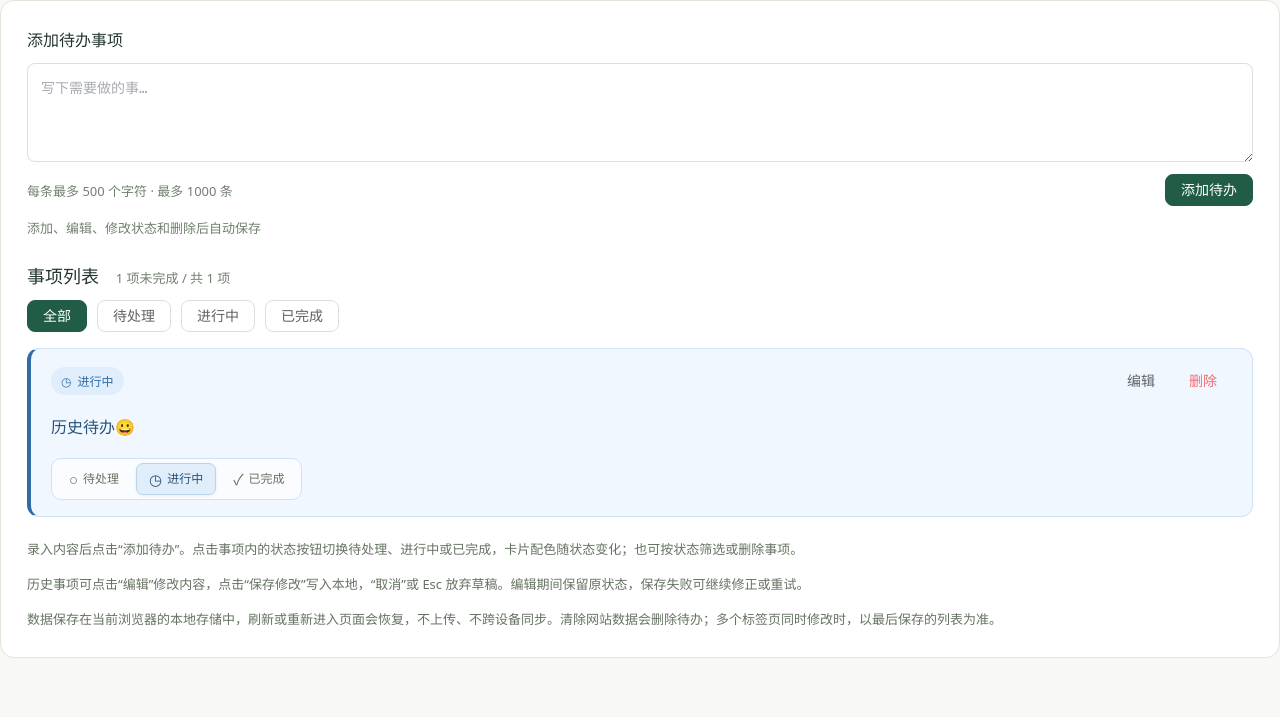
Test case: 历史内容可以编辑，取消不保存，保存后安全显示 HTML 文本并保持状态
The width and height of the screenshot is (1280, 717).
Click the button "编辑". click: [1141, 381]
box: [1112, 365, 1170, 397]
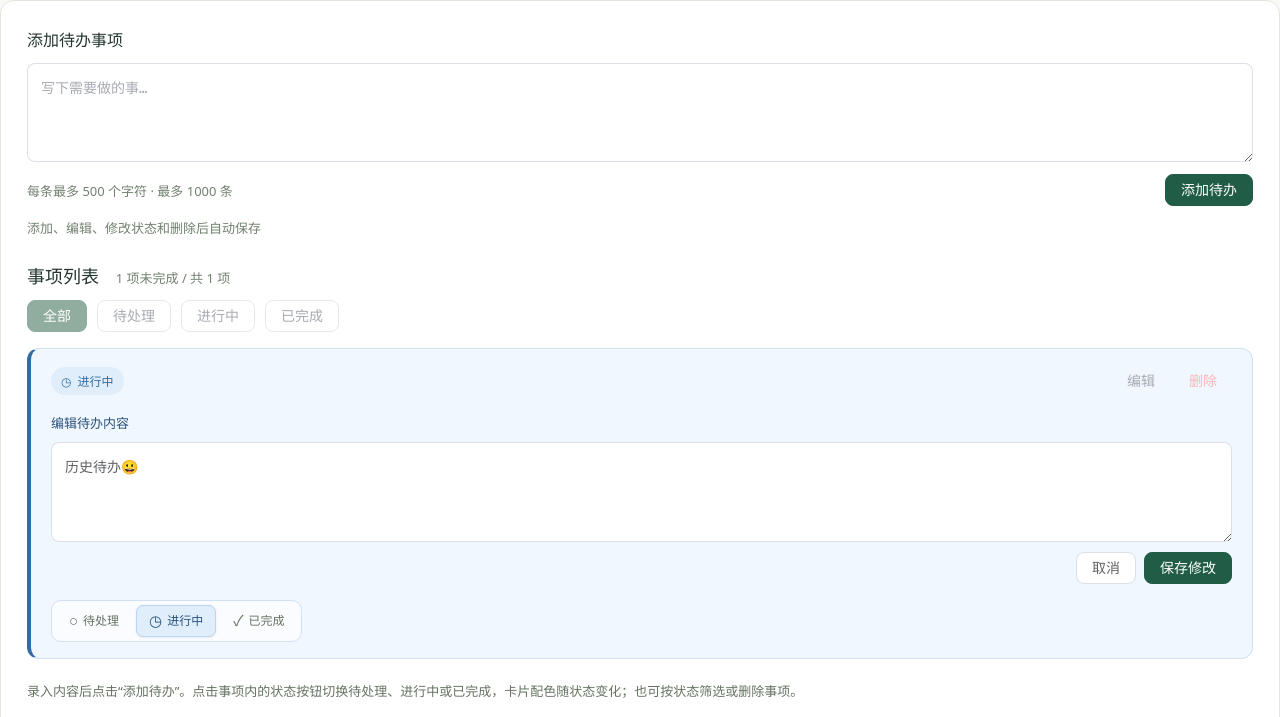
Now the text box labelled "编辑待办内容" holds "历史待办😀"
Replace the text in the text box labelled "编辑待办内容" with "取消的草稿". click: [642, 492]
box: [51, 442, 1232, 542]
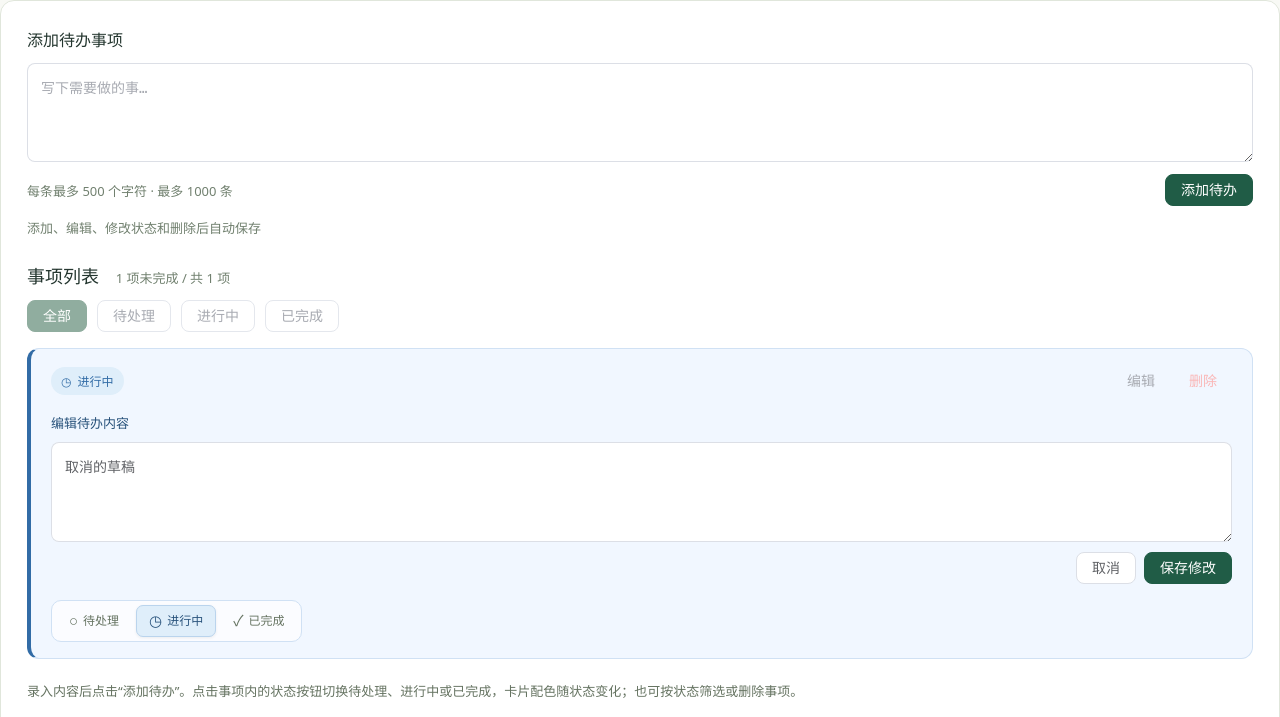
Click the button "取消". click: [1106, 568]
box: [1076, 552, 1136, 584]
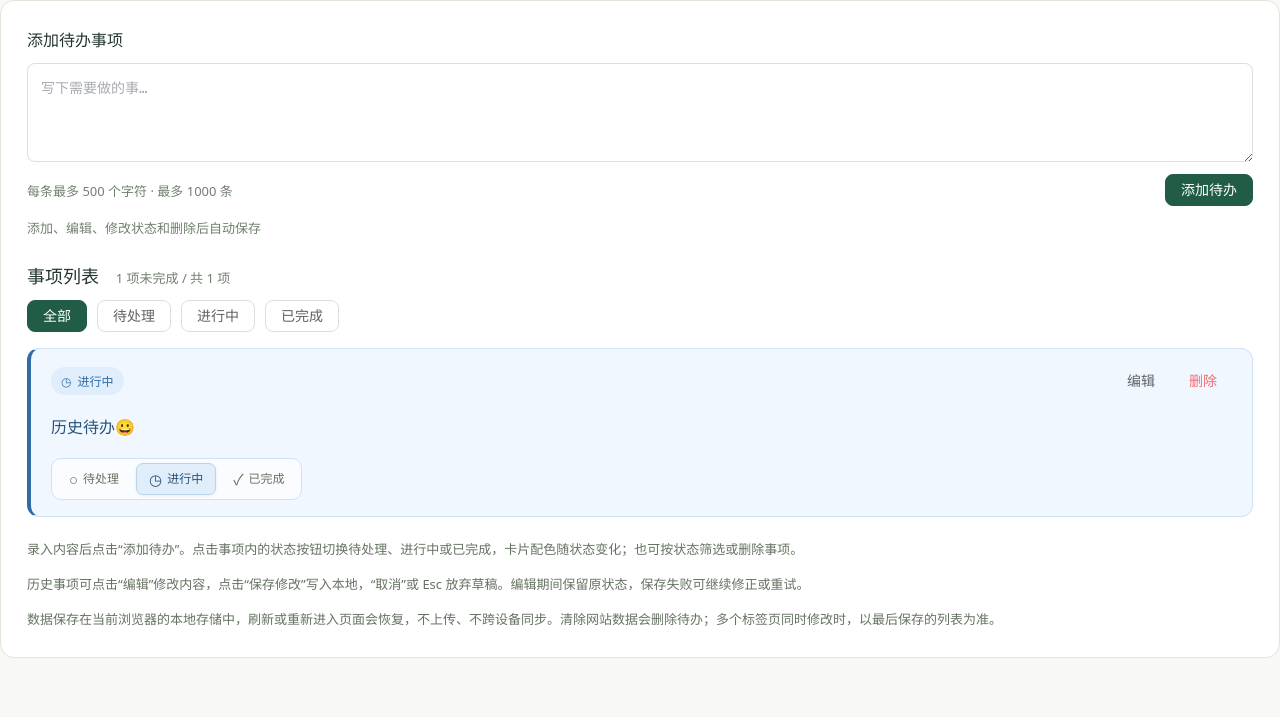
Now the text with class "todo-content" reads "历史待办😀", box [51, 416, 135, 438]
Click the button "编辑". click: [1141, 381]
box: [1112, 365, 1170, 397]
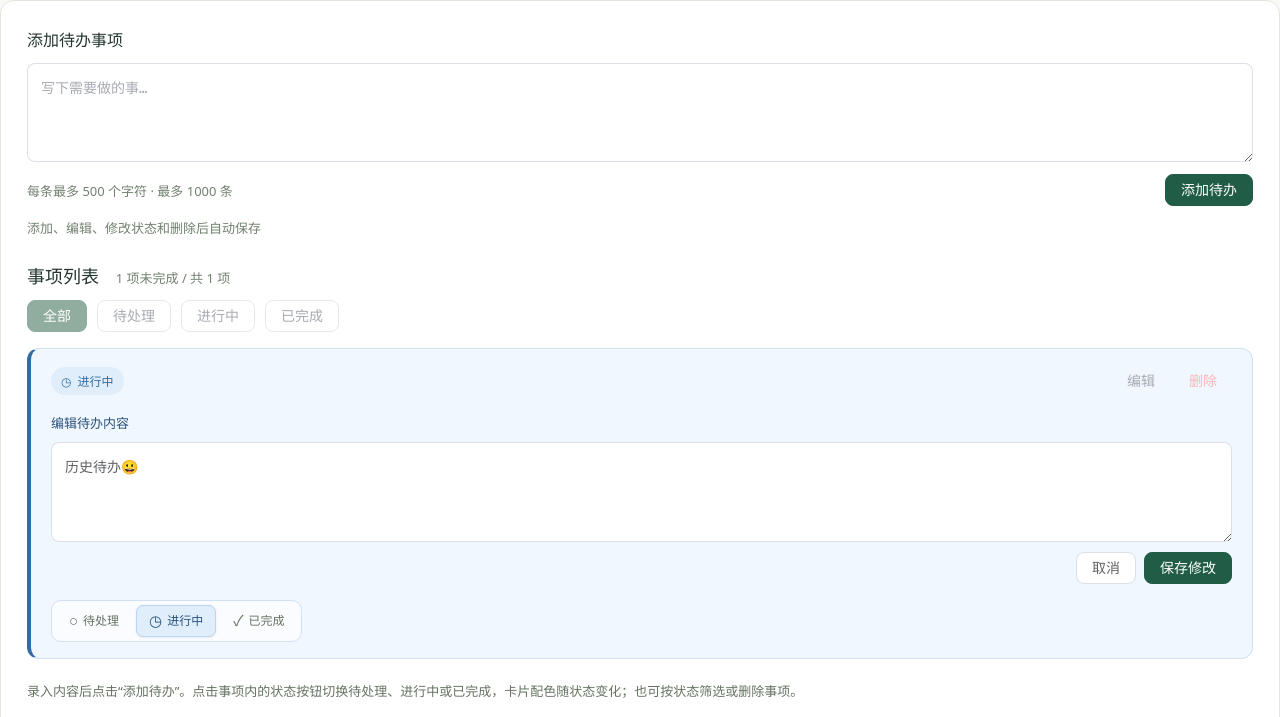
Replace the text in the text box labelled "编辑待办内容" with "<script>文本😀</script>". click: [642, 492]
box: [51, 442, 1232, 542]
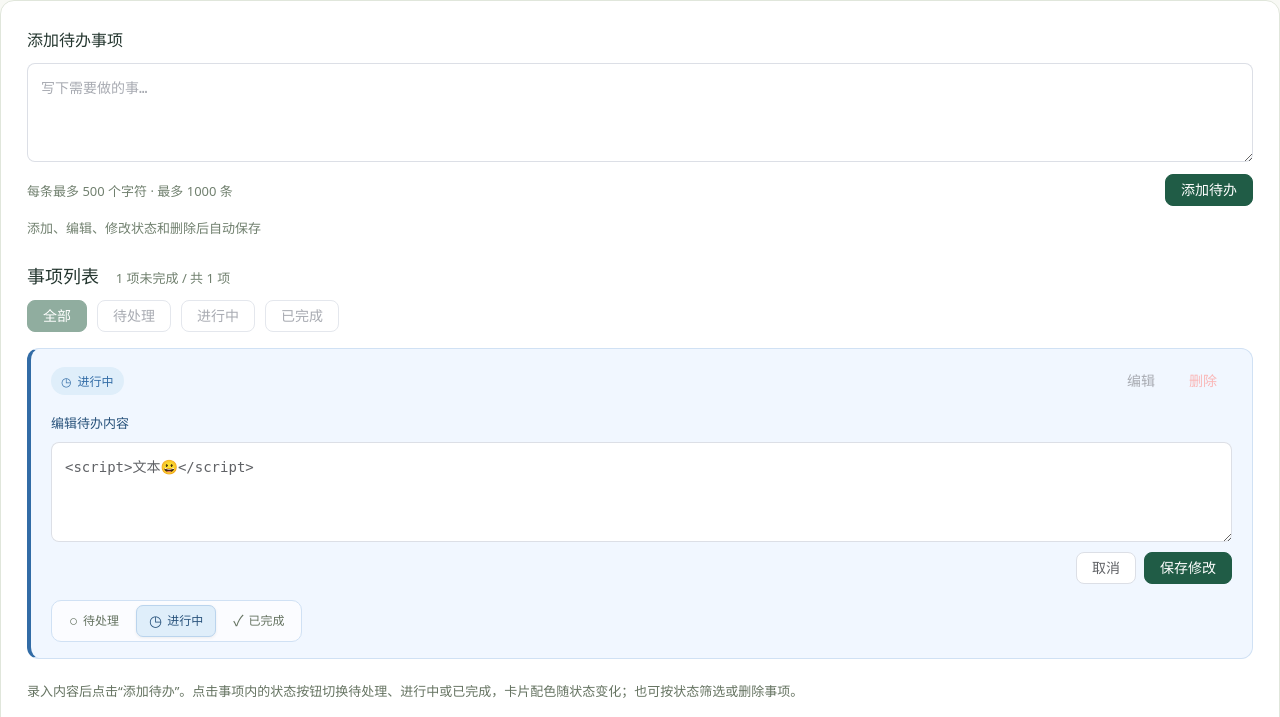
Click the button "保存修改". click: [1188, 568]
box: [1144, 552, 1232, 584]
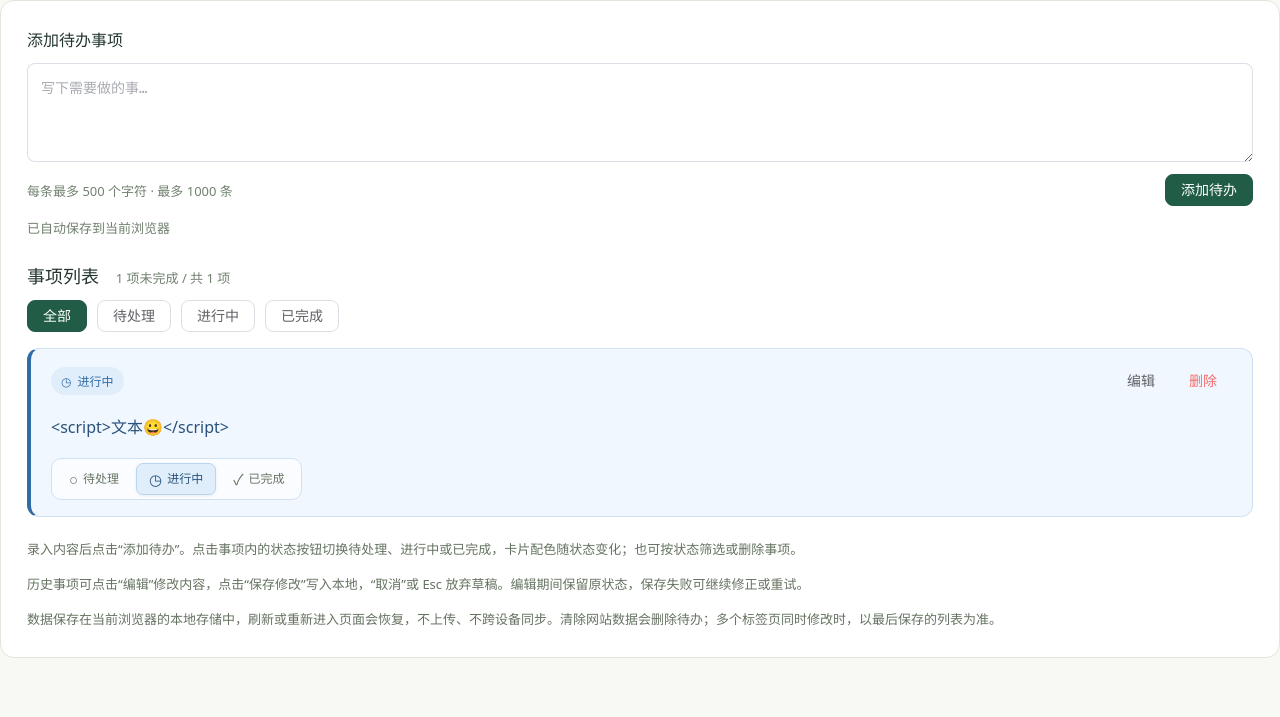
Now the form with class "todo-editor" is gone
